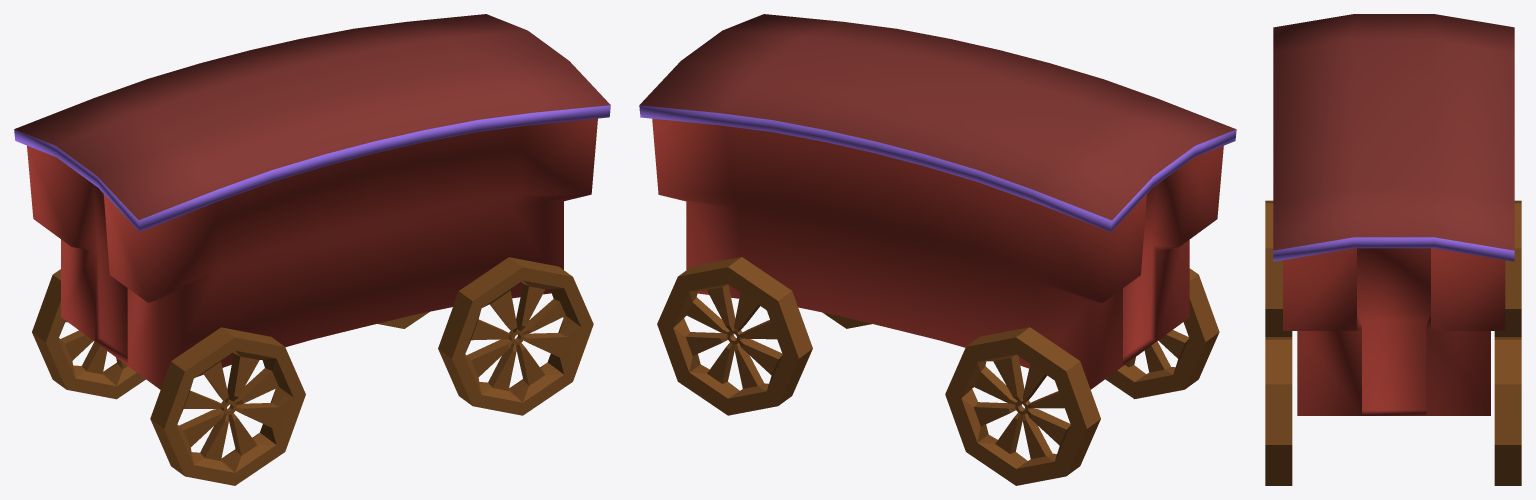
The model's file is CollectorsCaravan.fbx.
The picture shows the model from 3 angles, left to right: view 1: azimuth 30°, elevation 25°; view 2: azimuth 150°, elevation 25°; view 3: azimuth 270°, elevation 25°; orthographic projection. The views are drawn at different scales.
Parts seen in each view (by area): view 1: CollectorsCaravan; view 2: CollectorsCaravan; view 3: CollectorsCaravan.
Part boxes in pixels (x1,y1,x2,y2): CollectorsCaravan: [14, 14, 610, 485]; CollectorsCaravan: [639, 14, 1236, 485]; CollectorsCaravan: [1265, 14, 1521, 485].
Size of the model in its own units: 546 by 354 by 265.
